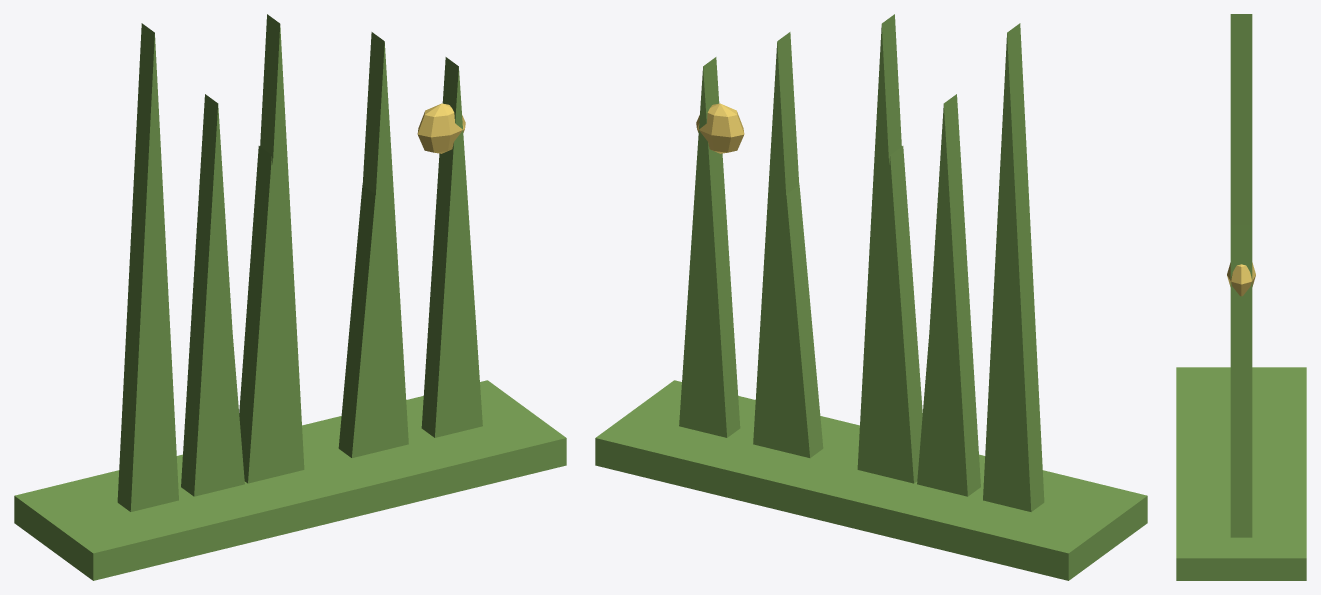
The model's file is GG-VEG-GRASS-COASTAL-DUNE-001_LOD_GAMEPLAY.glb.
The picture shows the model from 3 angles, left to right: view 1: azimuth 30°, elevation 25°; view 2: azimuth 150°, elevation 25°; view 3: azimuth 270°, elevation 25°; orthographic projection. The views are drawn at different scales.
Parts seen in each view (by area): view 1: GG_VEG_MOD_BASE_001, GG_VEG_MODULE_4, GG_VEG_MODULE_8, GG_VEG_MODULE_7, GG_VEG_MODULE_5, GG_VEG_MODULE_2, GG_VEG_MODULE_3, GG_VEG_MODULE_6, GG_VEG_MODULE_1, GG_VEG_ACCENT_1; view 2: GG_VEG_MOD_BASE_001, GG_VEG_MODULE_4, GG_VEG_MODULE_5, GG_VEG_MODULE_8, GG_VEG_MODULE_3, GG_VEG_MODULE_2, GG_VEG_MODULE_1, GG_VEG_MODULE_7, GG_VEG_MODULE_6, GG_VEG_ACCENT_1; view 3: GG_VEG_MOD_BASE_001, GG_VEG_MODULE_8, GG_VEG_MODULE_7, GG_VEG_MODULE_4, GG_VEG_MODULE_2, GG_VEG_ACCENT_1.
Boxes of the visible parts, <box> form: GG_VEG_MOD_BASE_001: <box>14,380,566,580</box>; GG_VEG_MODULE_4: <box>117,23,178,511</box>; GG_VEG_MODULE_8: <box>421,57,482,437</box>; GG_VEG_MODULE_7: <box>256,14,304,481</box>; GG_VEG_MODULE_5: <box>181,94,242,496</box>; GG_VEG_MODULE_2: <box>360,32,408,455</box>; GG_VEG_MODULE_3: <box>239,146,295,483</box>; GG_VEG_MODULE_6: <box>197,191,244,495</box>; GG_VEG_MODULE_1: <box>338,185,399,457</box>; GG_VEG_ACCENT_1: <box>417,103,465,153</box>; GG_VEG_MOD_BASE_001: <box>595,380,1147,580</box>; GG_VEG_MODULE_4: <box>983,23,1044,511</box>; GG_VEG_MODULE_5: <box>919,94,980,496</box>; GG_VEG_MODULE_8: <box>679,57,740,437</box>; GG_VEG_MODULE_3: <box>866,146,922,483</box>; GG_VEG_MODULE_2: <box>753,32,801,455</box>; GG_VEG_MODULE_1: <box>763,185,823,457</box>; GG_VEG_MODULE_7: <box>857,14,901,477</box>; GG_VEG_MODULE_6: <box>917,196,964,495</box>; GG_VEG_ACCENT_1: <box>696,103,744,153</box>; GG_VEG_MOD_BASE_001: <box>1176,367,1306,580</box>; GG_VEG_MODULE_8: <box>1230,225,1252,537</box>; GG_VEG_MODULE_7: <box>1230,82,1252,160</box>; GG_VEG_MODULE_4: <box>1230,14,1252,82</box>; GG_VEG_MODULE_2: <box>1230,160,1252,225</box>; GG_VEG_ACCENT_1: <box>1227,262,1255,296</box>.
Bounding box in the file's own units: 1.08 × 1.09 × 0.312.
